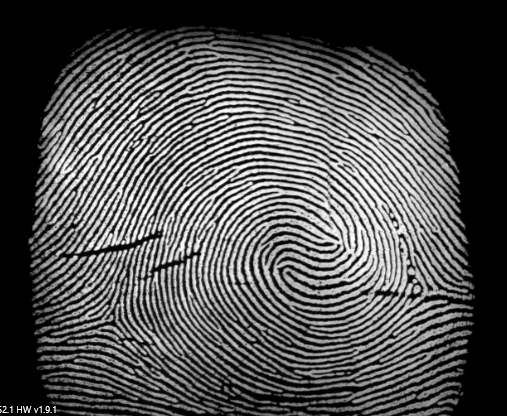deltas: (390, 256, 444, 321), (86, 290, 137, 345)
nucleo: (269, 231, 343, 300)
